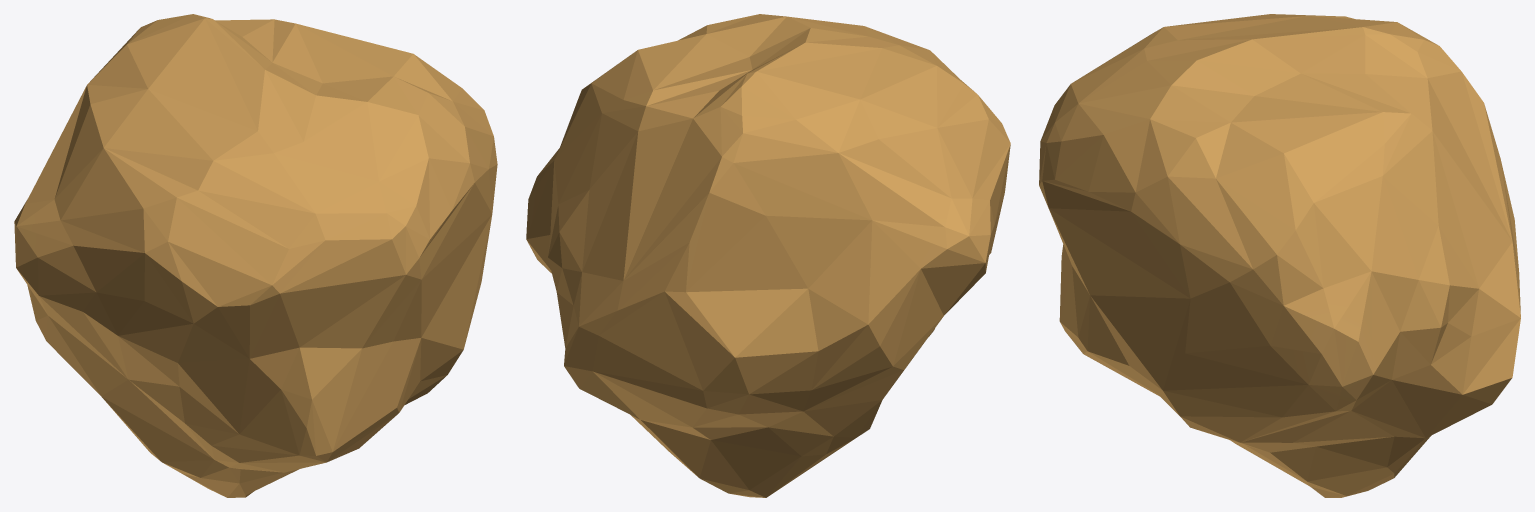
The model's file is M_Meteor_4.fbx.
3 renders of one model, left to right at view 1: azimuth 30°, elevation 25°; view 2: azimuth 150°, elevation 25°; view 3: azimuth 270°, elevation 25°, orthographic. The views are drawn at different scales.
Visible parts, largest first — view 1: M_Meteor_4; view 2: M_Meteor_4; view 3: M_Meteor_4.
Part boxes in pixels (x1=…): M_Meteor_4: x1=14, y1=14, x2=497, y2=497; M_Meteor_4: x1=526, y1=14, x2=1010, y2=497; M_Meteor_4: x1=1039, y1=14, x2=1520, y2=497.
Bounding box in the file's own units: 311 × 297 × 281.
